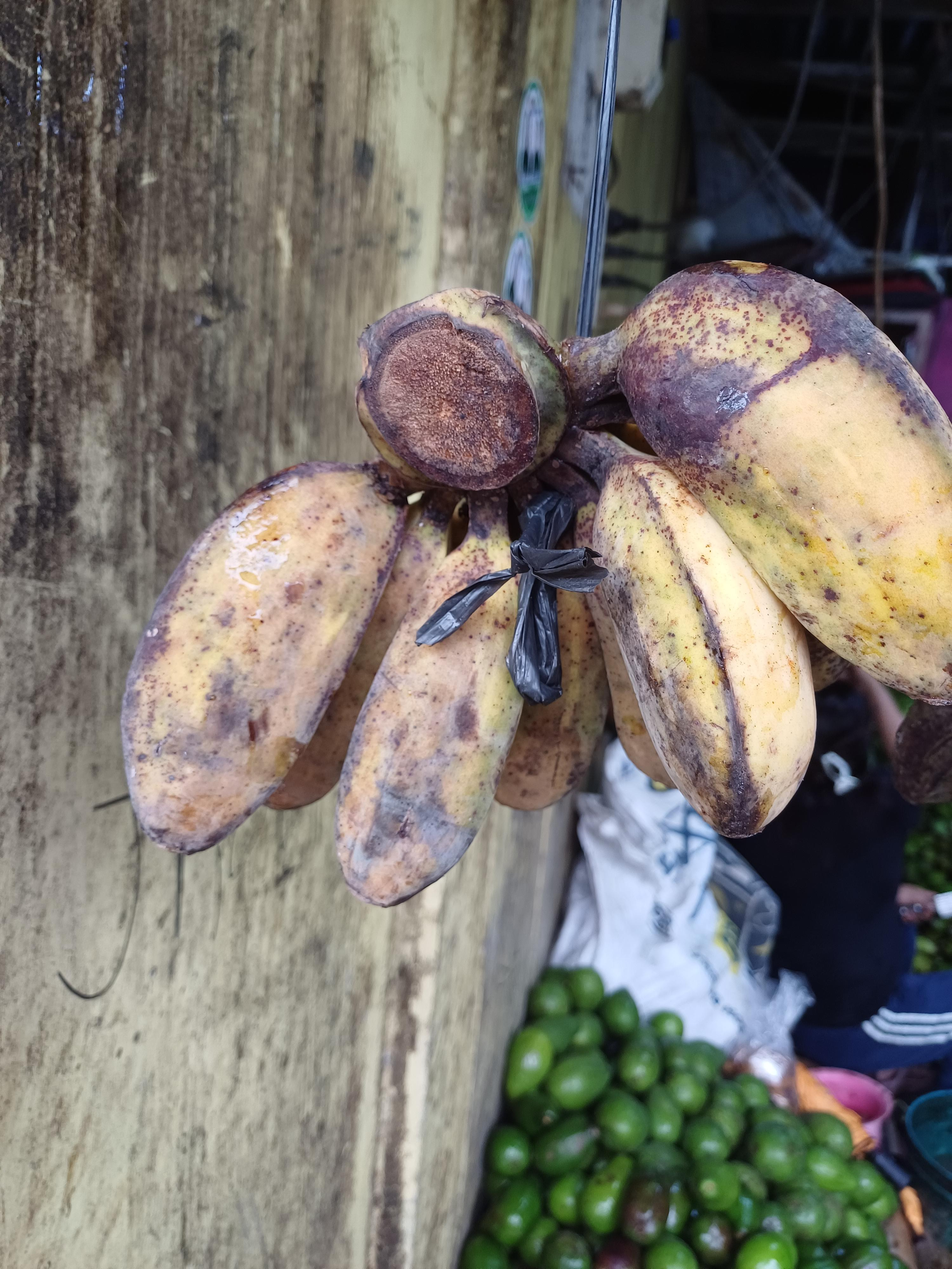ripe: (124, 262, 952, 904)
